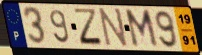3: (24, 5, 47, 47)
9: (154, 10, 178, 50), (49, 9, 71, 45)
M: (124, 9, 160, 50)
N: (99, 7, 130, 50)
Z: (72, 8, 106, 48)
